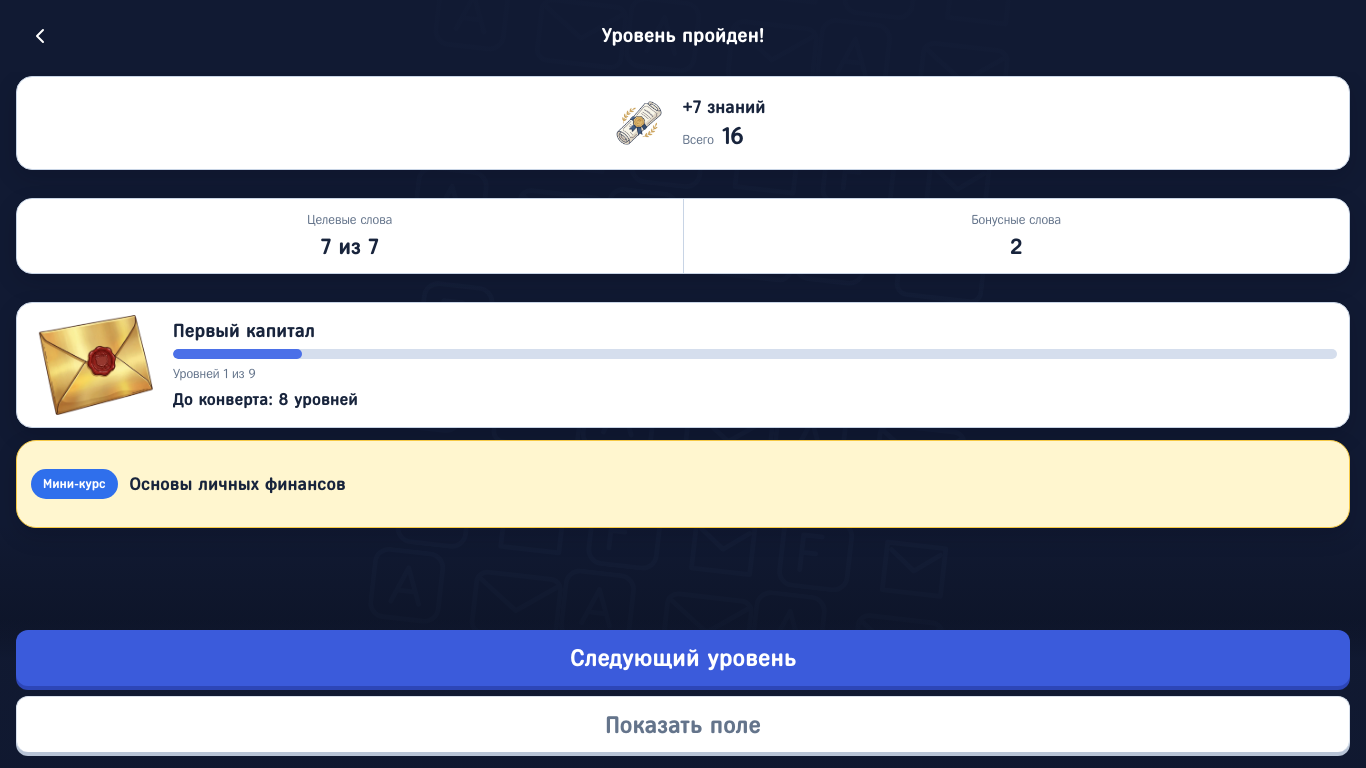
P4 Results state machine › открывает read-only Field Review со snapshot API-008 без hint/route submit и сохраняет Results после скрытия поля
Expected: the heading "Уровень пройден!" is shown, x1=602 y1=25 x2=764 y2=46
What coordinates should you click on to do the following:
click the button "Показать поле"
I would click on:
 (683, 724)
Its box is x1=16 y1=696 x2=1350 y2=752.
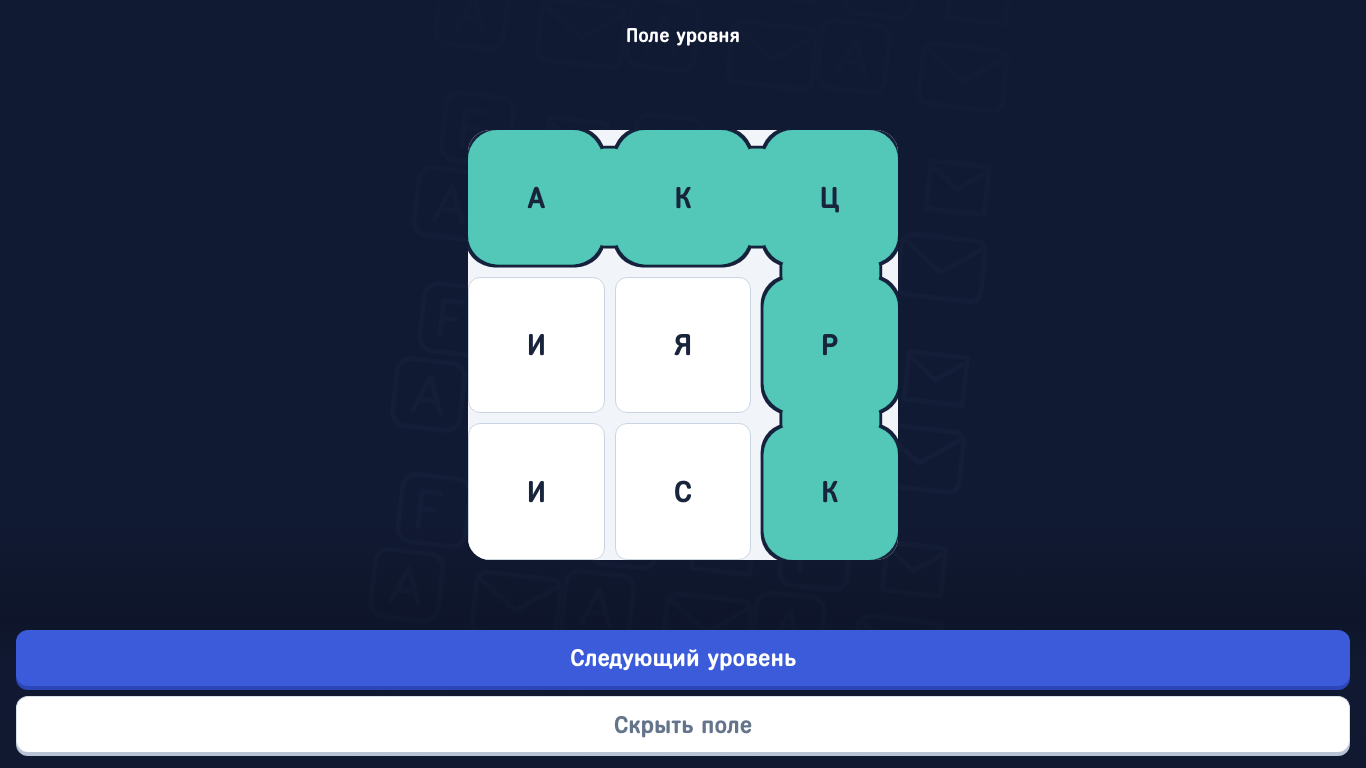
Now the element named "Просмотр поля текущего уровня" is shown
Now the element named "Игровое поле" is shown, box x1=468 y1=130 x2=898 y2=560
What coordinates should you click on to do the following:
click the button named "К, строка 1, столбец 2. Найденное слово АКЦИЯ. Открыть информацию"
I would click on:
 (683, 198)
Its box is x1=615 y1=130 x2=751 y2=267.
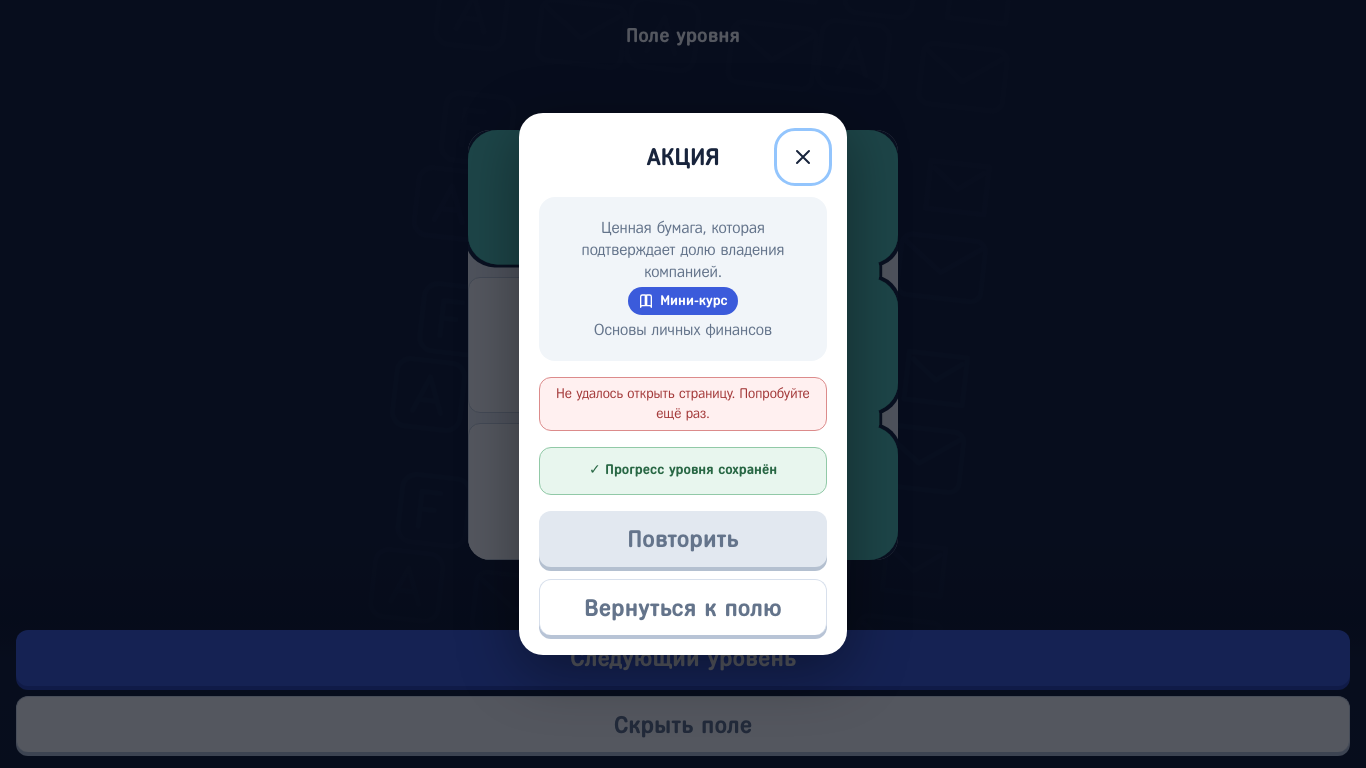
Now the dialog "АКЦИЯ" shows "Ценная бумага, которая подтверждает долю владения компанией.", box x1=582 y1=219 x2=784 y2=280
Now the text "Мини-курс" is shown, box x1=628 y1=287 x2=738 y2=315
Now the button "Повторить" is disabled, box x1=539 y1=511 x2=827 y2=567
What coordinates should you click on to do the following:
click the button "Вернуться к полю"
I would click on:
 (683, 607)
Its box is x1=539 y1=579 x2=827 y2=635.
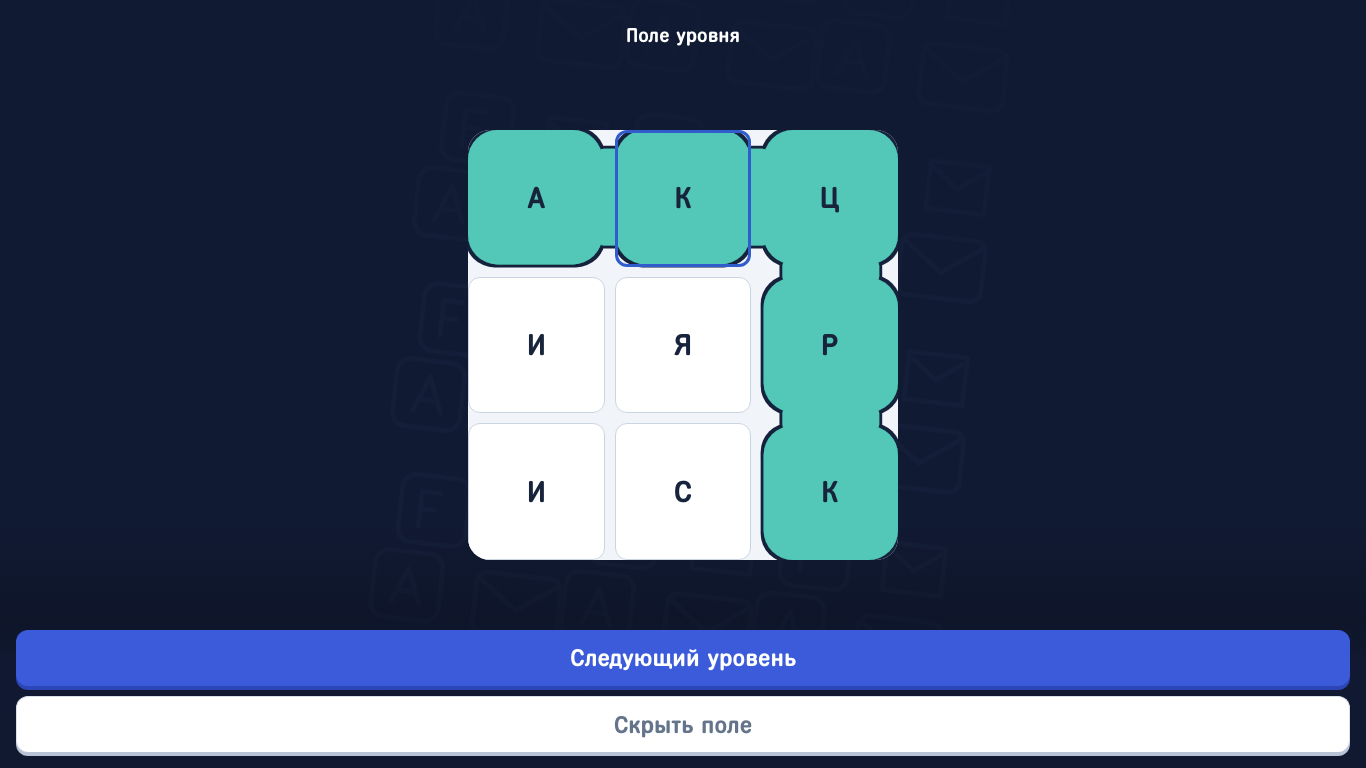
Now the element named "Просмотр поля текущего уровня" is shown
What coordinates should you click on to do the following:
click the button "Скрыть поле"
I would click on:
 (683, 724)
Its box is x1=16 y1=696 x2=1350 y2=752.
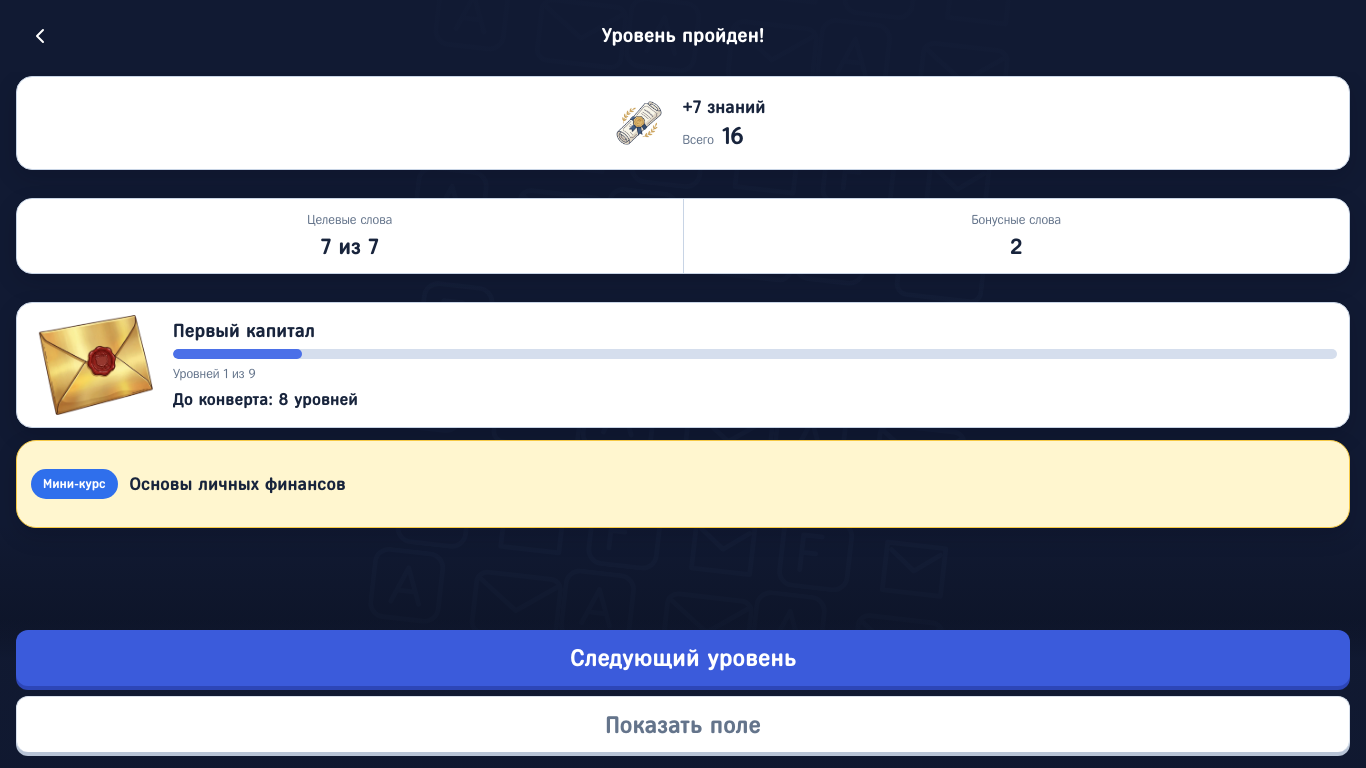
Now the heading "Уровень пройден!" is shown, box x1=602 y1=25 x2=764 y2=46
Now the text "16" is shown, box x1=722 y1=124 x2=744 y2=148
